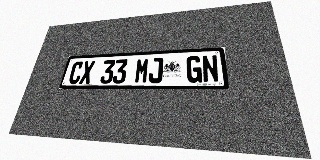3: (99, 60, 116, 84), (112, 59, 128, 84)
C: (67, 61, 84, 84)
G: (186, 56, 202, 83)
J: (148, 57, 163, 83)
M: (134, 58, 150, 83)
N: (202, 55, 219, 83)
X: (79, 61, 95, 84)
